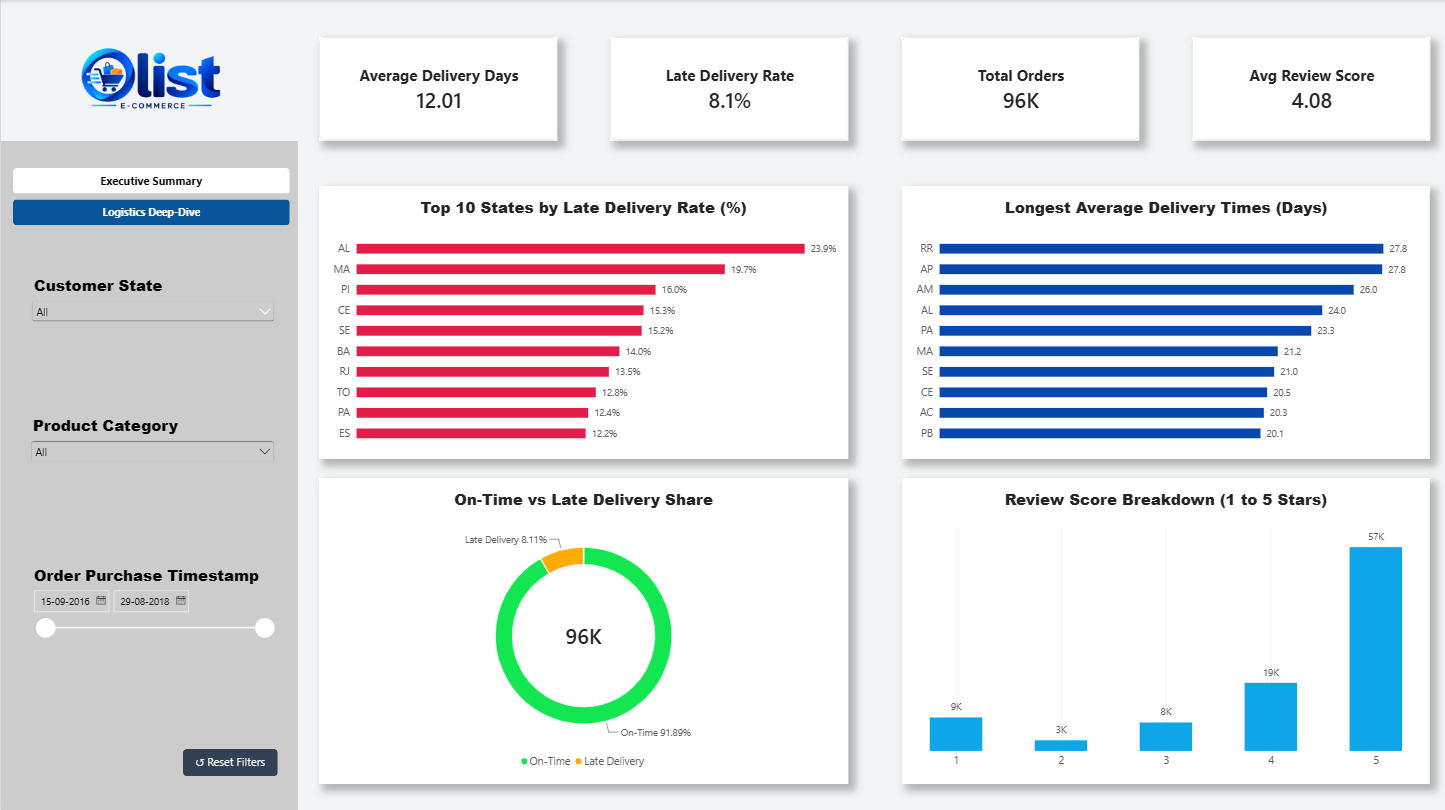

This screenshot's page, from the dashboard's own definition file:
{"tool":"powerbi","page":{"name":"Logistics Deep-Dive","canvas":[1920,1080],"ordinal":1},"visuals":[{"type":"shape","box":[0,187.1,394.8,892.6],"z":0},{"type":"slicer","title":"Customer State","fields":{"Values":["olist_cleaned_for_dashboard.customer_state"]},"box":[36,364.2,333,97.7],"z":1000},{"type":"slicer","title":"Product Category","fields":{"Values":["olist_cleaned_for_dashboard.product_category_name_english"]},"box":[34,550.2,334,100],"z":2000},{"type":"slicer","title":"Order Purchase Timestamp","fields":{"Values":["olist_cleaned_for_dashboard.order_purchase_timestamp"]},"box":[36,750.2,331.2,150.2],"z":3000},{"type":"image","box":[53.9,49.1,289.1,111],"z":4000},{"type":"actionButton","box":[242,996,126,36],"z":5000},{"type":"cardVisual","title":"Avg Delivery Days","fields":{"Data":["Avg(olist_cleaned_for_dashboard.delivery_days)"]},"box":[423.3,49.1,317.4,137.8],"z":6000},{"type":"pageNavigator","box":[15.9,223.6,368,76],"z":7000},{"type":"cardVisual","title":"Late Delivery Rate","fields":{"Data":["olist_cleaned_for_dashboard.Late Delivery Rate"]},"box":[810.2,49.1,317.4,137.8],"z":8000},{"type":"cardVisual","title":"Total Orders","fields":{"Data":["olist_cleaned_for_dashboard.Total Orders"]},"box":[1197,49.1,317.4,137.8],"z":9000},{"type":"cardVisual","title":"Avg Review Score","fields":{"Data":["olist_cleaned_for_dashboard.Avg Review Score"]},"box":[1583.9,49.1,317.4,137.8],"z":10000},{"type":"clusteredBarChart","title":"Top 10 States by Late Delivery Rate (%)","fields":{"Category":["olist_cleaned_for_dashboard.customer_state"],"Y":["olist_cleaned_for_dashboard.Late Delivery Rate"]},"box":[423.3,247.3,703.9,363.1],"z":11000},{"type":"clusteredBarChart","title":"Longest Average Delivery Times (Days)","fields":{"Category":["olist_cleaned_for_dashboard.customer_state"],"Y":["Avg(olist_cleaned_for_dashboard.delivery_days)"]},"box":[1198.6,247.3,702.4,363.1],"z":12000},{"type":"donutChart","title":"On-Time vs Late Delivery Share","fields":{"Y":["olist_cleaned_for_dashboard.Total Orders"],"Category":["olist_cleaned_for_dashboard.Delivery_Status"]},"box":[423.3,635.8,703.9,407.5],"z":13000},{"type":"clusteredColumnChart","title":"Review Score Breakdown (1 to 5 Stars)","fields":{"Category":["olist_cleaned_for_dashboard.review_score"],"Y":["olist_cleaned_for_dashboard.Total Orders"]},"box":[1198.6,635.8,702,407],"z":14000}]}

Visuals, with their boxes in screenshot pixels (x1, y1, x2, y2), scaled from the page's 1920x1080 canvas onto the 1445x810 screenshot:
shape: <region>0, 140, 297, 809</region>
"Customer State" slicer: <region>27, 273, 278, 346</region>
"Product Category" slicer: <region>26, 413, 277, 488</region>
"Order Purchase Timestamp" slicer: <region>27, 563, 276, 675</region>
image: <region>41, 37, 258, 120</region>
actionButton: <region>182, 747, 277, 774</region>
"Avg Delivery Days" cardVisual: <region>319, 37, 557, 140</region>
pageNavigator: <region>12, 168, 289, 225</region>
"Late Delivery Rate" cardVisual: <region>610, 37, 849, 140</region>
"Total Orders" cardVisual: <region>901, 37, 1140, 140</region>
"Avg Review Score" cardVisual: <region>1192, 37, 1431, 140</region>
"Top 10 States by Late Delivery Rate (%)" clusteredBarChart: <region>319, 185, 848, 458</region>
"Longest Average Delivery Times (Days)" clusteredBarChart: <region>902, 185, 1431, 458</region>
"On-Time vs Late Delivery Share" donutChart: <region>319, 477, 848, 782</region>
"Review Score Breakdown (1 to 5 Stars)" clusteredColumnChart: <region>902, 477, 1430, 782</region>
